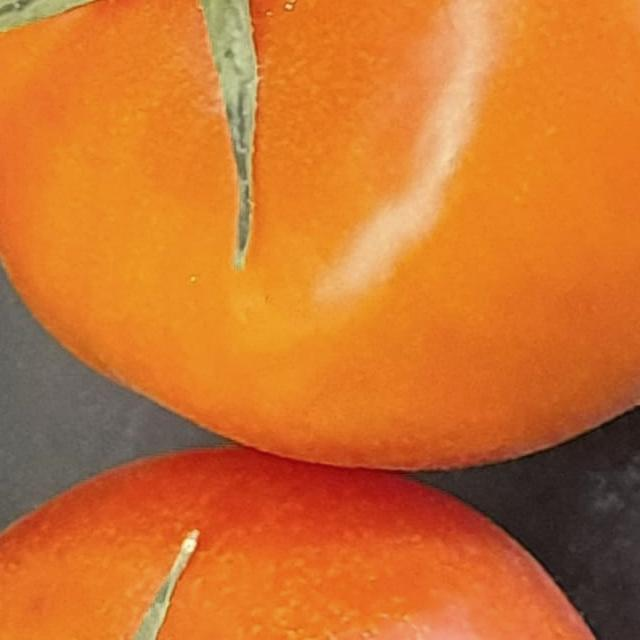tomato: (0, 0, 640, 466), (0, 436, 640, 640)
